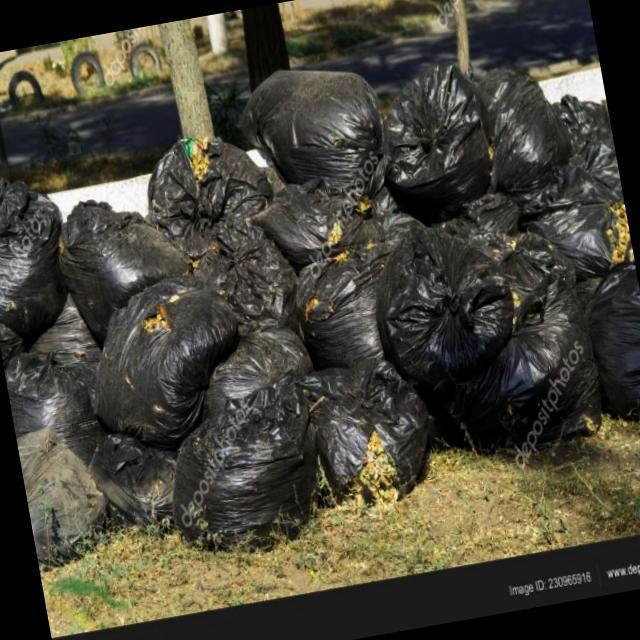garbage: (0, 81, 640, 560), (236, 19, 566, 264)
